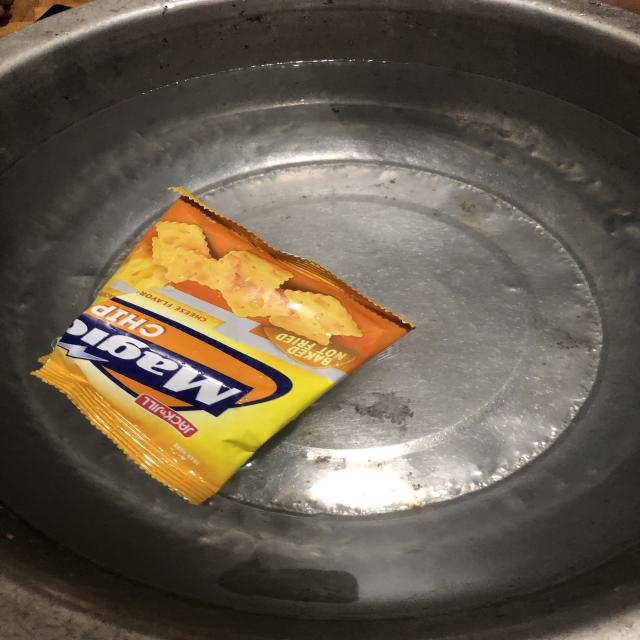Plastic Wrapper: (32, 188, 414, 502)
